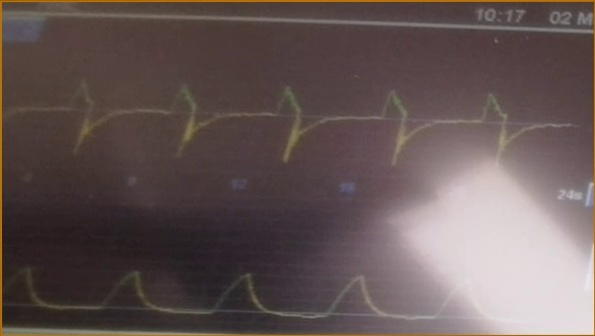Accumulation Flow: (9, 61, 569, 169)
Volume: (5, 236, 508, 326)
